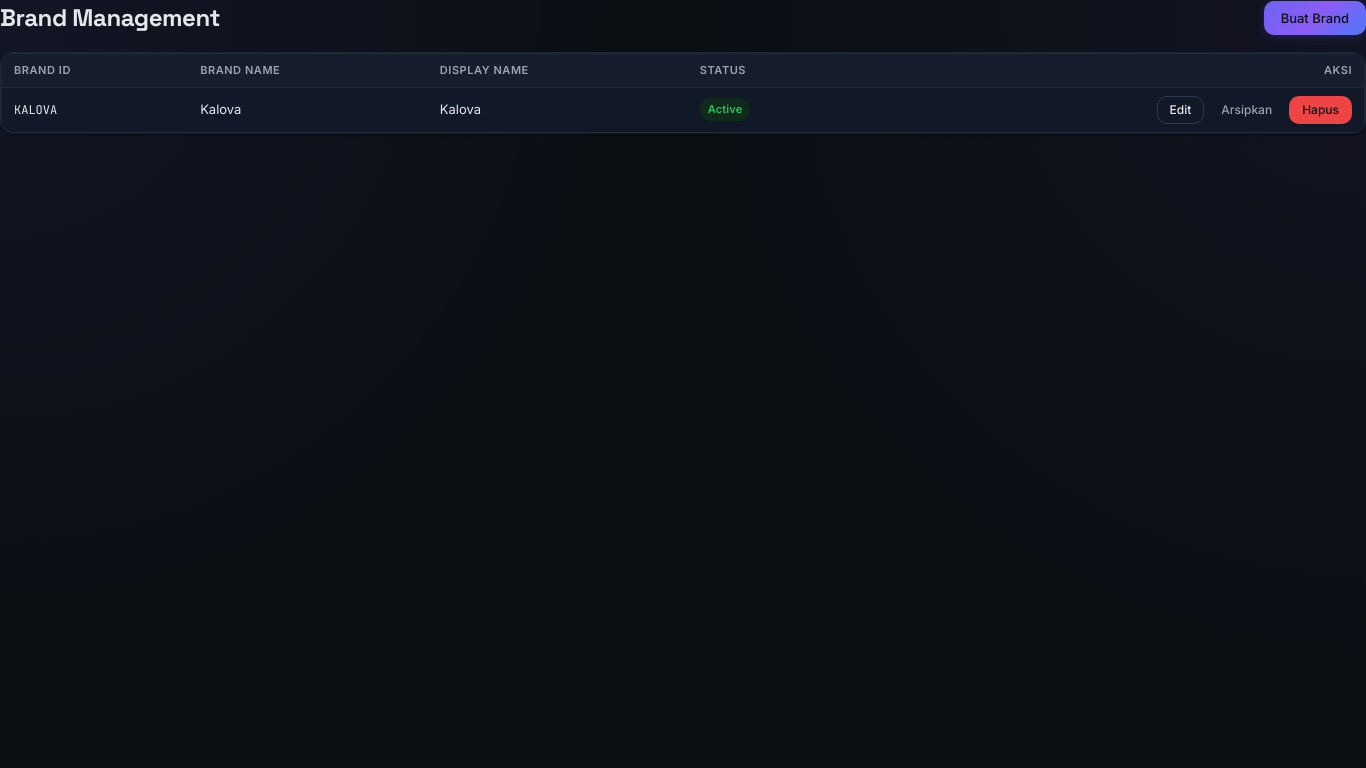
BrandManagementView › rejects deleting a Brand with related data and guides toward Archive (Req 19.6)
Click the button with aria-label "Hapus Brand Kalova". click: click(1321, 110)
box: [1289,96,1352,124]
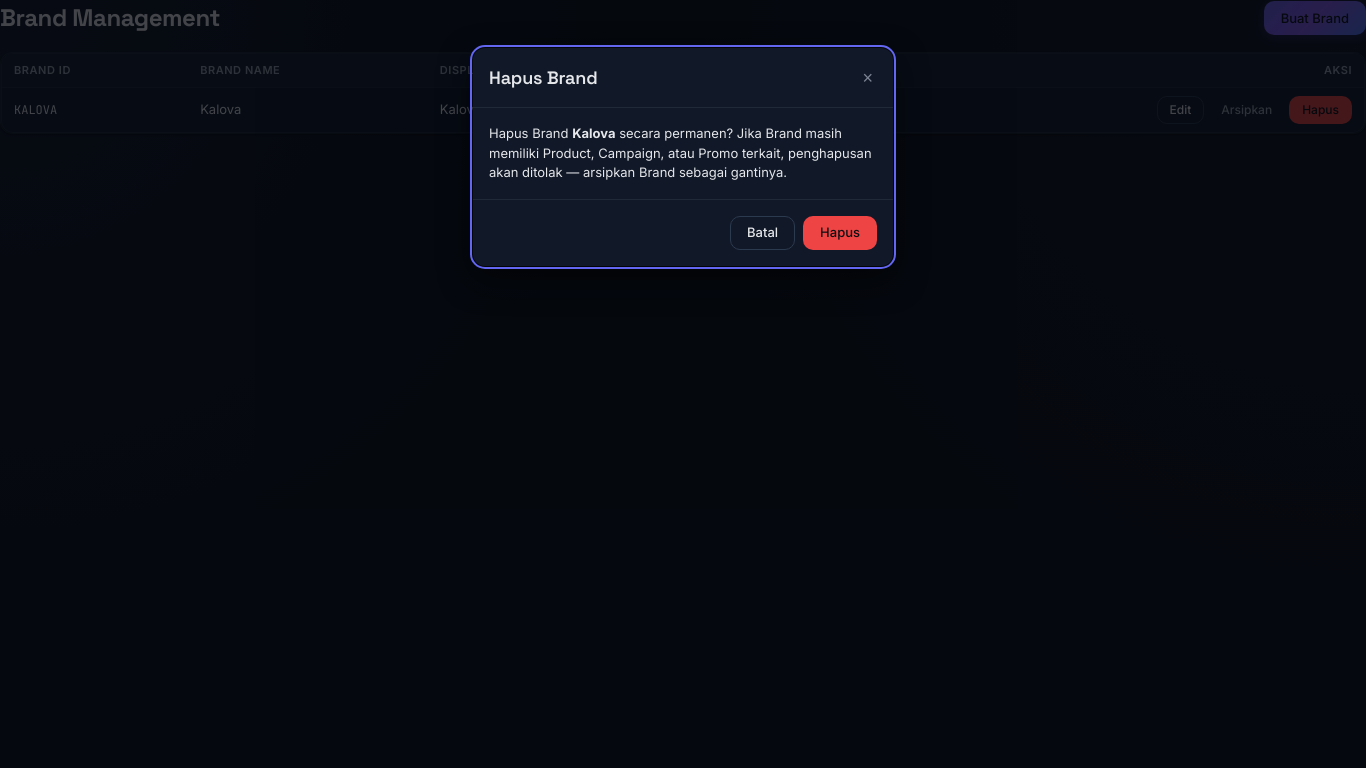
Click the button "Hapus". click: click(840, 232)
box: [803,216,877,250]
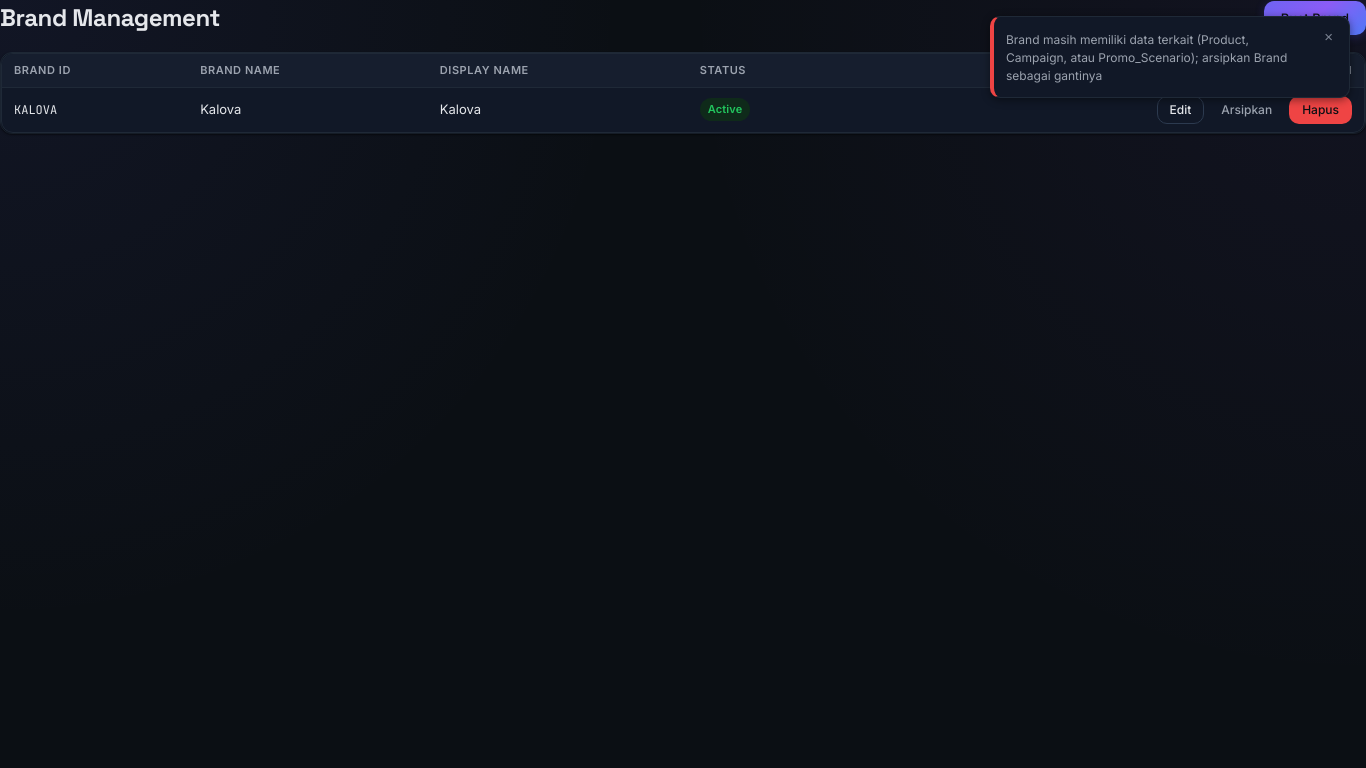
Now the text "masih memiliki data terkait" is shown, box [1006,32,1287,83]
